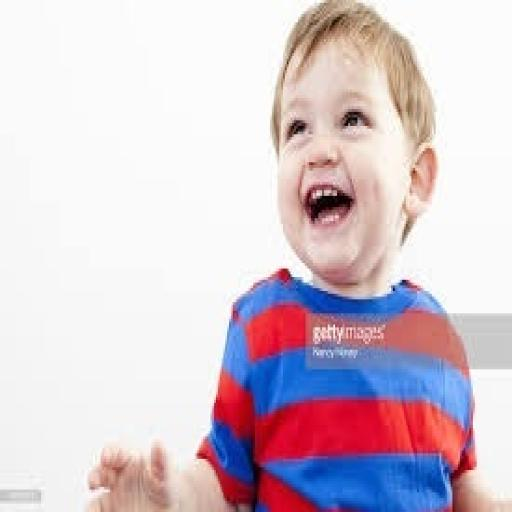laughing: (78, 0, 510, 509)
